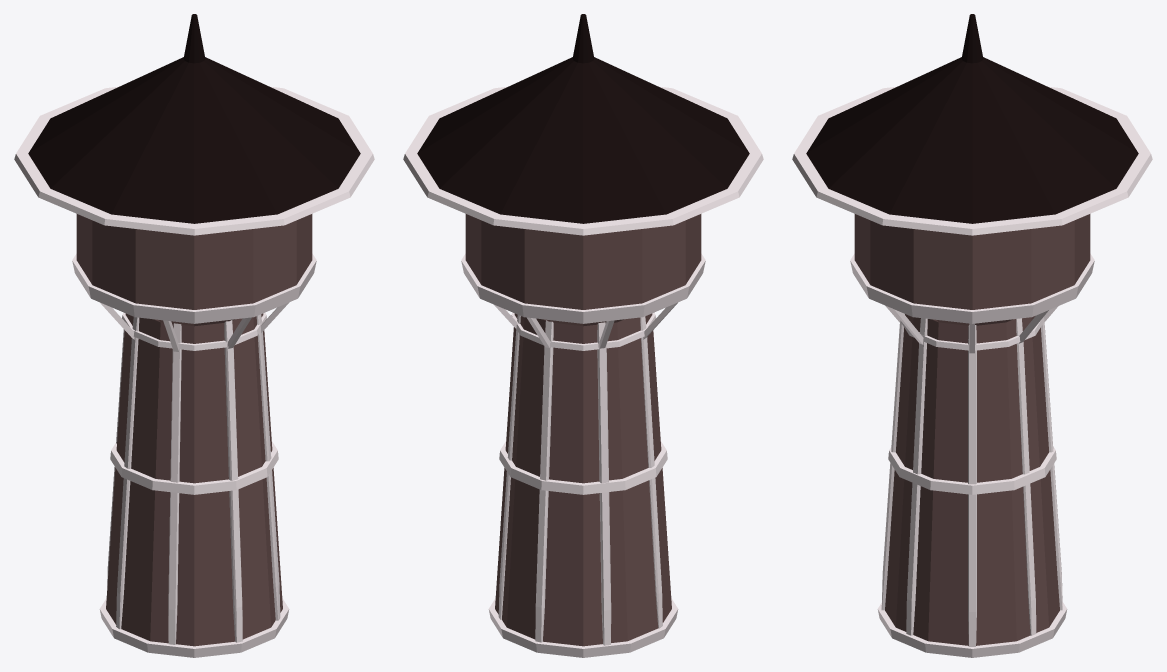
File: Wasserturm.fbx
3 views of the same model, side by side, from view 1: azimuth 30°, elevation 25°; view 2: azimuth 150°, elevation 25°; view 3: azimuth 270°, elevation 25° (orthographic).
Visible parts, largest first — view 1: Turm, Turm.008, Turm.006, Turm.004, Cube.008, Cube.015, Turm.002, Turm.003, Cube.014, Cube.009, Turm.007; view 2: Turm, Turm.008, Turm.006, Turm.004, Cube.011, Cube.010, Turm.002, Turm.003, Cube.014, Cube.012, Turm.007; view 3: Turm, Turm.008, Turm.006, Turm.004, Cube.009, Cube.013, Turm.002, Cube.012, Turm.003, Cube.008, Cube.010, Turm.007.
Boxes of the visible parts, left/top/right/bottom form: Turm: left=76, top=214, right=312, bottom=646; Turm.008: left=28, top=14, right=360, bottom=223; Turm.006: left=14, top=86, right=374, bottom=235; Turm.004: left=72, top=253, right=316, bottom=323; Cube.008: left=224, top=320, right=242, bottom=642; Cube.015: left=168, top=323, right=181, bottom=644; Turm.002: left=99, top=598, right=289, bottom=657; Turm.003: left=110, top=441, right=278, bottom=494; Cube.014: left=116, top=317, right=139, bottom=629; Cube.009: left=256, top=314, right=280, bottom=620; Turm.007: left=122, top=313, right=266, bottom=350; Turm: left=465, top=214, right=701, bottom=646; Turm.008: left=417, top=14, right=749, bottom=223; Turm.006: left=403, top=86, right=763, bottom=235; Turm.004: left=461, top=253, right=705, bottom=323; Cube.011: left=597, top=322, right=611, bottom=645; Cube.010: left=535, top=320, right=553, bottom=642; Turm.002: left=488, top=598, right=678, bottom=657; Turm.003: left=499, top=441, right=667, bottom=494; Cube.014: left=640, top=316, right=662, bottom=628; Cube.012: left=498, top=315, right=520, bottom=619; Turm.007: left=511, top=313, right=655, bottom=350; Turm: left=854, top=214, right=1090, bottom=645; Turm.008: left=806, top=14, right=1138, bottom=223; Turm.006: left=792, top=86, right=1152, bottom=235; Turm.004: left=850, top=253, right=1094, bottom=323; Cube.009: left=906, top=318, right=927, bottom=635; Cube.013: left=968, top=325, right=976, bottom=646; Turm.002: left=877, top=602, right=1067, bottom=657; Cube.012: left=1016, top=318, right=1036, bottom=635; Turm.003: left=888, top=446, right=1056, bottom=494; Cube.008: left=881, top=313, right=904, bottom=610; Cube.010: left=1041, top=322, right=1062, bottom=610; Turm.007: left=900, top=317, right=1044, bottom=350.
Bounding box in the file's own units: 2673 × 4937 × 2673.
